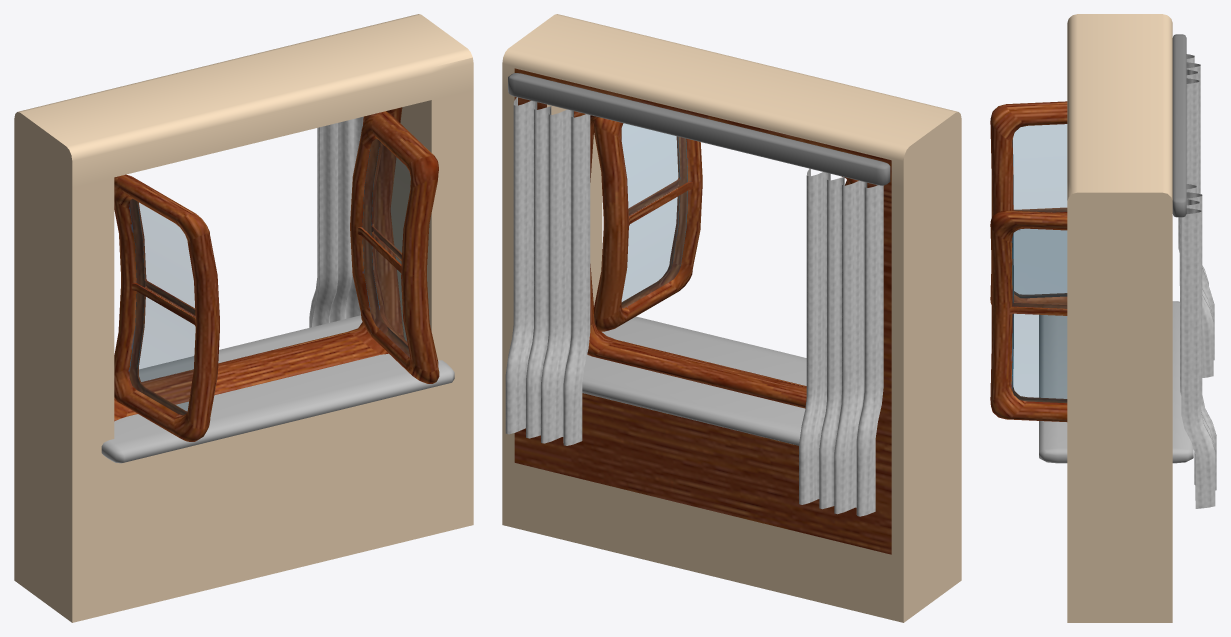
The model's file is Window_Wall_D_Open.glb.
3 views of the same model, side by side, from view 1: azimuth 30°, elevation 25°; view 2: azimuth 150°, elevation 25°; view 3: azimuth 270°, elevation 25° (orthographic). The views are drawn at different scales.
Visible parts, largest first — view 1: Cube.017, Torus.011, Torus.012, Cube.016, Torus.010, Grid.006; view 2: Cube.017, Cube.015, Grid.006, Grid.007, Torus.012, Cube.016, Cube.014, Torus.010; view 3: Cube.017, Torus.012, Torus.011, Grid.006, Cube.016, Grid.007, Cube.014.
Part boxes in pixels (bbox=[...]): Cube.017: bbox=[14, 14, 473, 622]; Torus.011: bbox=[114, 174, 219, 441]; Torus.012: bbox=[350, 111, 439, 383]; Cube.016: bbox=[101, 315, 454, 463]; Torus.010: bbox=[114, 107, 404, 421]; Grid.006: bbox=[309, 116, 363, 327]; Cube.017: bbox=[502, 14, 961, 622]; Cube.015: bbox=[514, 68, 891, 554]; Grid.006: bbox=[505, 97, 590, 445]; Grid.007: bbox=[799, 168, 883, 516]; Torus.012: bbox=[594, 117, 702, 331]; Cube.016: bbox=[582, 316, 806, 445]; Cube.014: bbox=[508, 73, 890, 185]; Torus.010: bbox=[574, 111, 858, 408]; Cube.017: bbox=[1067, 14, 1172, 622]; Torus.012: bbox=[990, 210, 1067, 421]; Torus.011: bbox=[990, 101, 1067, 304]; Grid.006: bbox=[1180, 184, 1216, 508]; Cube.016: bbox=[1039, 301, 1193, 463]; Grid.007: bbox=[1178, 54, 1214, 377]; Cube.014: bbox=[1172, 34, 1186, 217].
Bounding box in the file's own units: 2 × 2.25 × 1.07.
4 materials, 4 textured.
